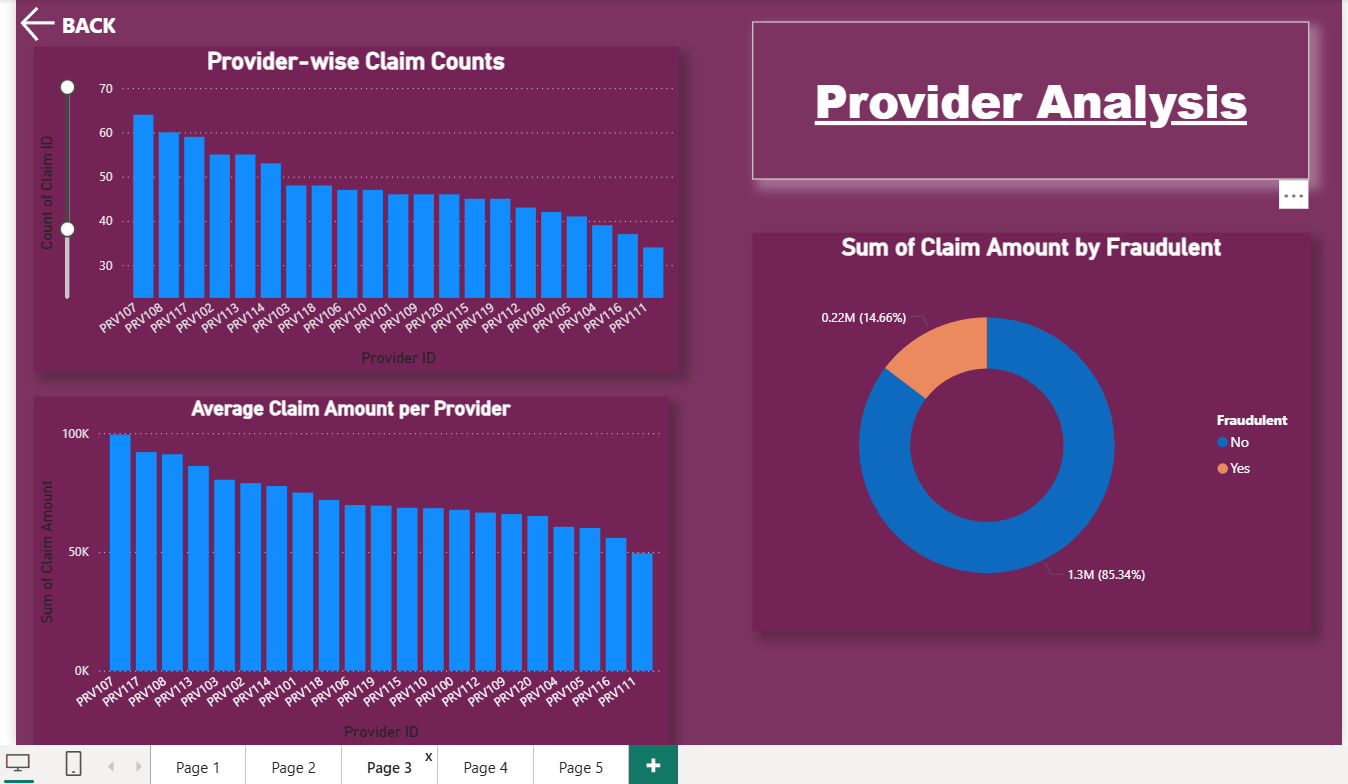

Layout of this report page (visuals, bound fields, positions):
{"tool":"powerbi","page":{"name":"Page 3","canvas":[1280,720],"ordinal":2},"visuals":[{"type":"columnChart","title":"Provider-wise Claim Counts","fields":{"Category":["Healthcare_Claims_Fraud_Dataset.Provider ID"],"Y":["CountNonNull(Healthcare_Claims_Fraud_Dataset.Claim ID)"]},"box":[16.9,45.8,622.5,313.7],"z":0},{"type":"columnChart","title":"Average Claim Amount per Provider","fields":{"Category":["Healthcare_Claims_Fraud_Dataset.Provider ID"],"Y":["Sum(Healthcare_Claims_Fraud_Dataset.Claim Amount)"]},"box":[16.9,383.6,612.9,336.6],"z":1000},{"type":"donutChart","fields":{"Category":["Healthcare_Claims_Fraud_Dataset.Fraudulent"],"Y":["Sum(Healthcare_Claims_Fraud_Dataset.Claim Amount)"]},"box":[710.8,225,539.3,384.2],"z":2000},{"type":"shape","box":[710.8,22,537.9,152.3],"z":3000},{"type":"actionButton","box":[0,2.4,100.1,43.4],"z":4000}]}

Visuals, with their boxes on the page's 1280x720 design canvas (x1, y1, x2, y2). These are canvas units, not pixel positions in the 1348x784 screenshot, which may show the page scaled, cropped or inside an application window:
"Provider-wise Claim Counts" columnChart: (17,46,639,360)
"Average Claim Amount per Provider" columnChart: (17,384,630,720)
donutChart - Healthcare_Claims_Fraud_Dataset.Fraudulent x Sum(Healthcare_Claims_Fraud_Dataset.Claim Amount): (711,225,1250,609)
shape: (711,22,1249,174)
actionButton: (0,2,100,46)
